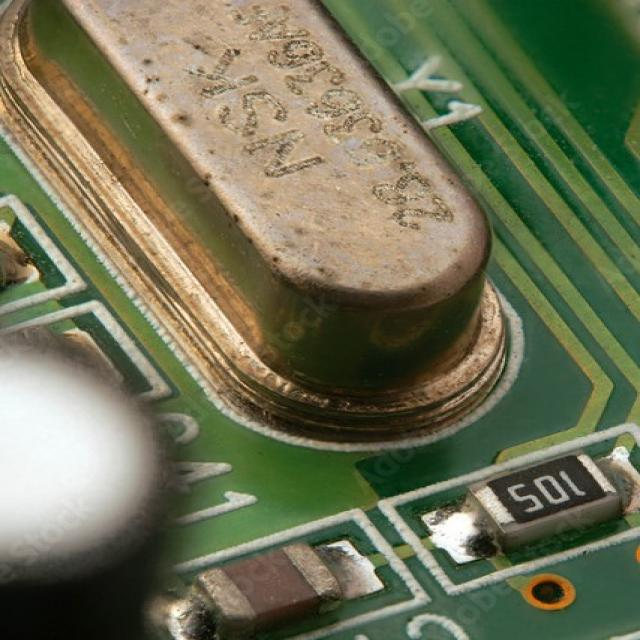capacitor 1V5: (170, 549, 372, 632)
clock Q1: (15, 0, 498, 445)
resistor IR1: (464, 457, 616, 542)
